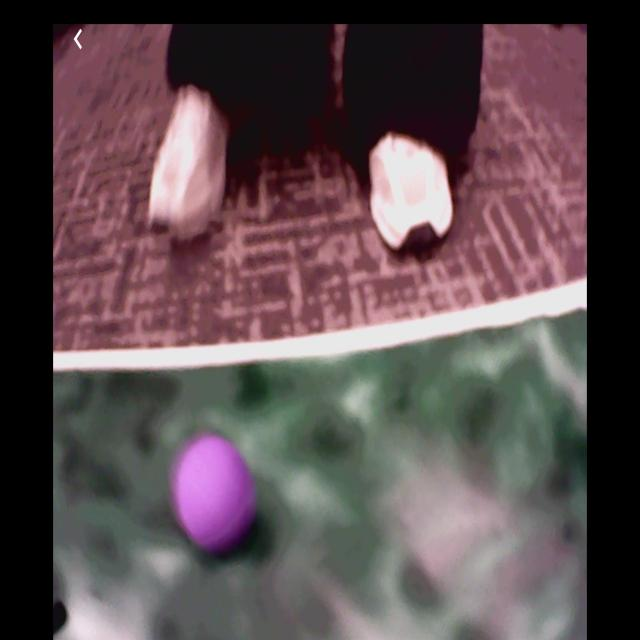ball: (178, 439, 251, 548)
